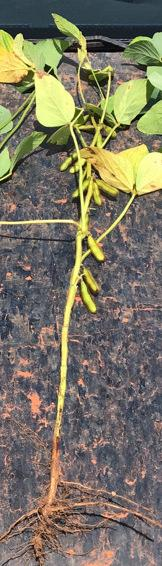soja: (74, 282, 103, 315), (76, 268, 112, 293), (83, 236, 113, 265), (67, 150, 94, 176), (70, 174, 94, 199), (74, 215, 96, 237), (98, 177, 120, 199), (60, 148, 80, 172), (84, 184, 104, 205), (103, 127, 120, 139)
